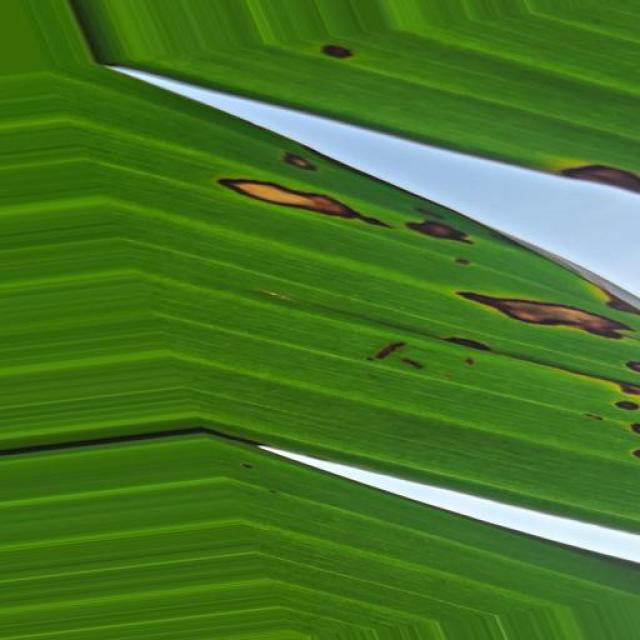Early_rust: (204, 19, 640, 455)
